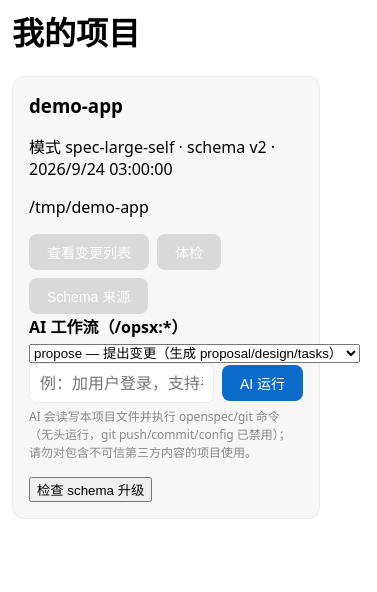
Test: ProjectsPage 项目列表 › 卡片带 schema 升级面板：检查后显示版本状态
Click the button "检查 schema 升级".
click(91, 489)  # box [29,477,152,502]
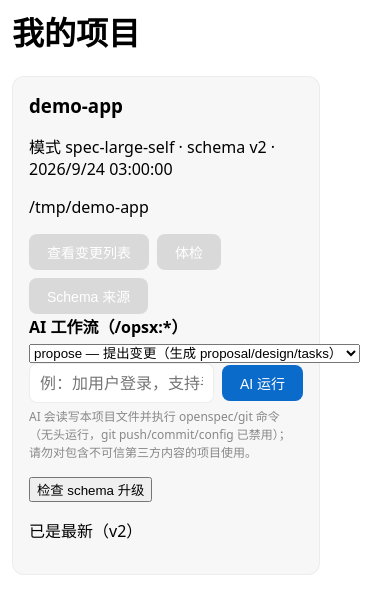
Expected: the text "已是最新（v2）" is shown, [29,520,142,542]
